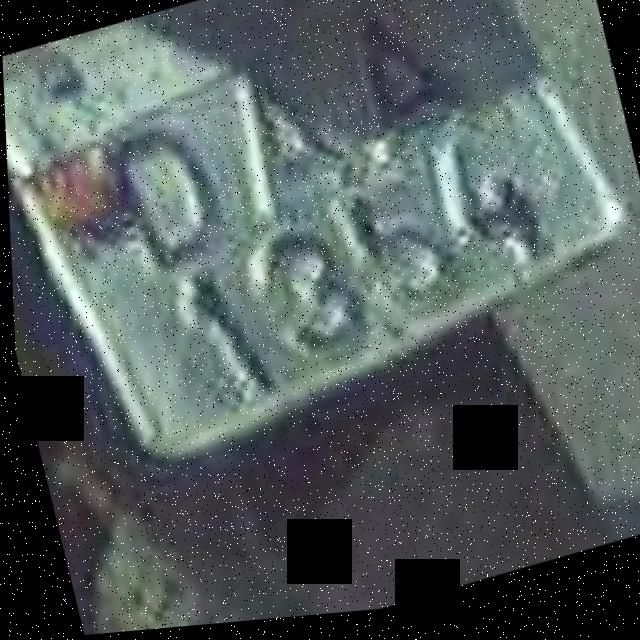1: (140, 224, 312, 443)
3: (219, 184, 404, 396)
4: (412, 96, 580, 314)
5: (323, 143, 480, 345)
O: (95, 85, 252, 291)
